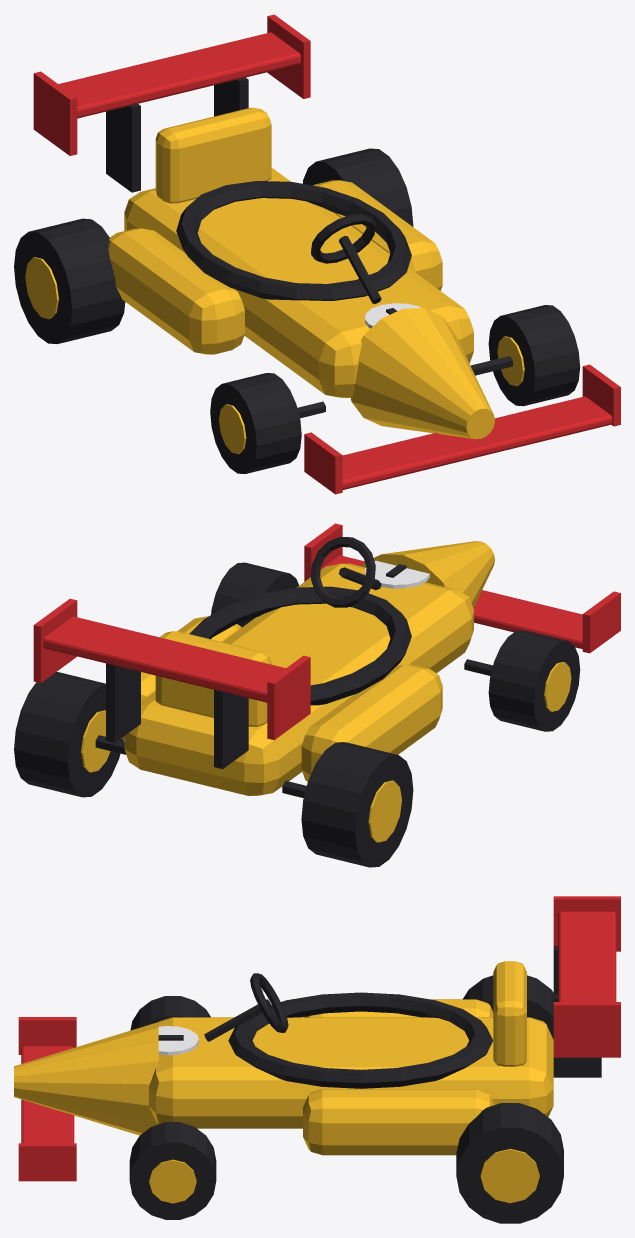
The model's file is ride_racer.fbx.
3 views of the same model, one above another, from view 1: azimuth 30°, elevation 25°; view 2: azimuth 150°, elevation 25°; view 3: azimuth 270°, elevation 25° (orthographic). The views are drawn at different scales.
Visible parts, largest first — view 1: ride_racer; view 2: ride_racer; view 3: ride_racer.
Boxes of the visible parts, <box> form: ride_racer: <box>14,14,620,494</box>; ride_racer: <box>14,523,620,867</box>; ride_racer: <box>14,896,620,1223</box>.
Bounding box in the file's own units: 384 × 224 × 630.
Materials: 1 (1 with a texture image).
